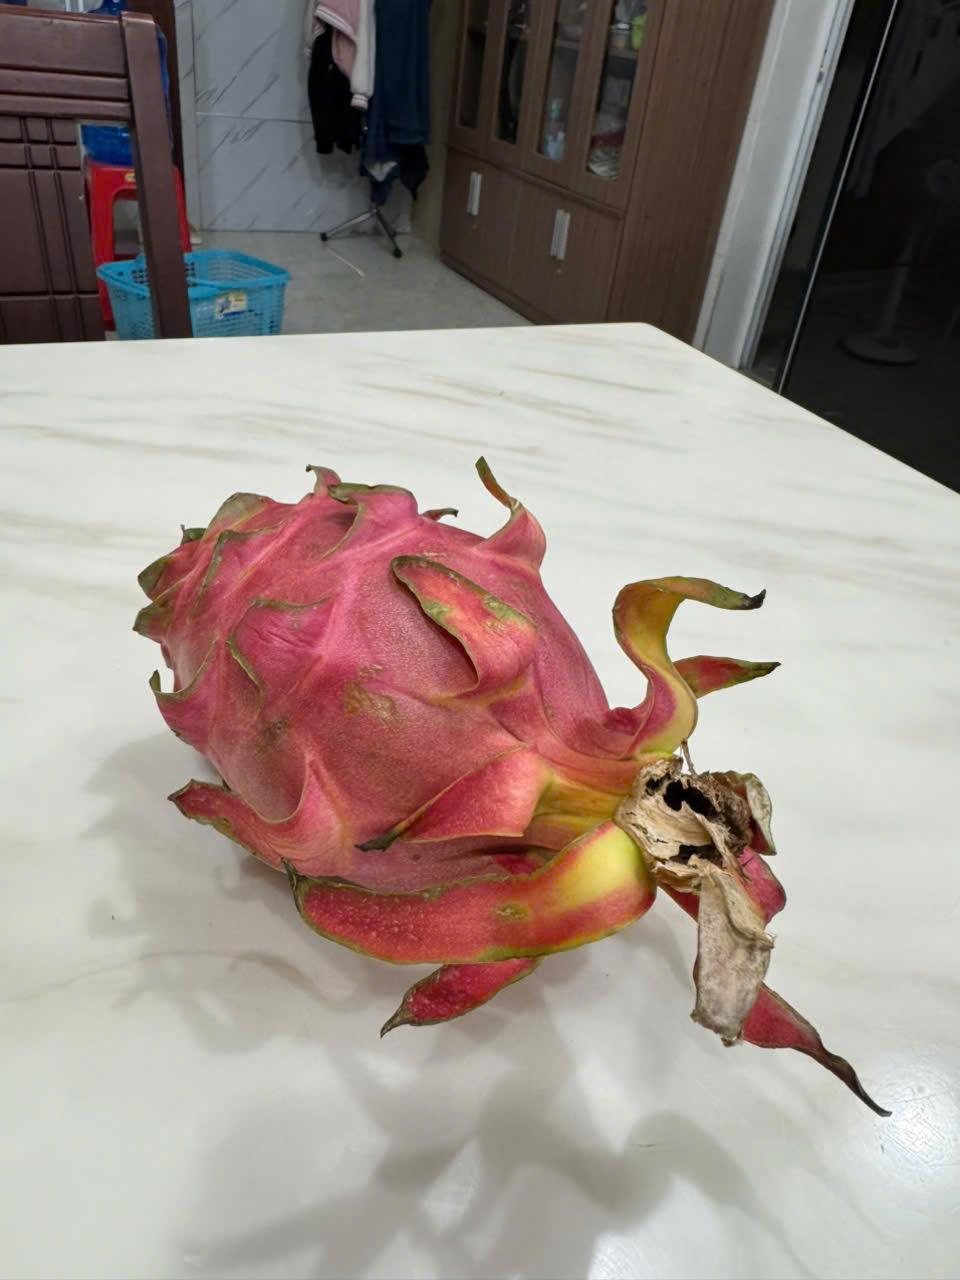dragon fruit: (106, 416, 925, 1187)
